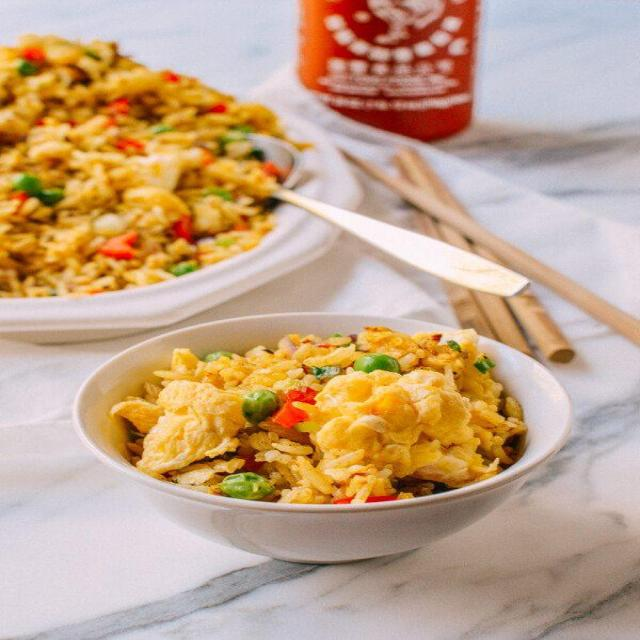Nasi Goreng: (107, 323, 528, 504), (0, 42, 279, 285)
